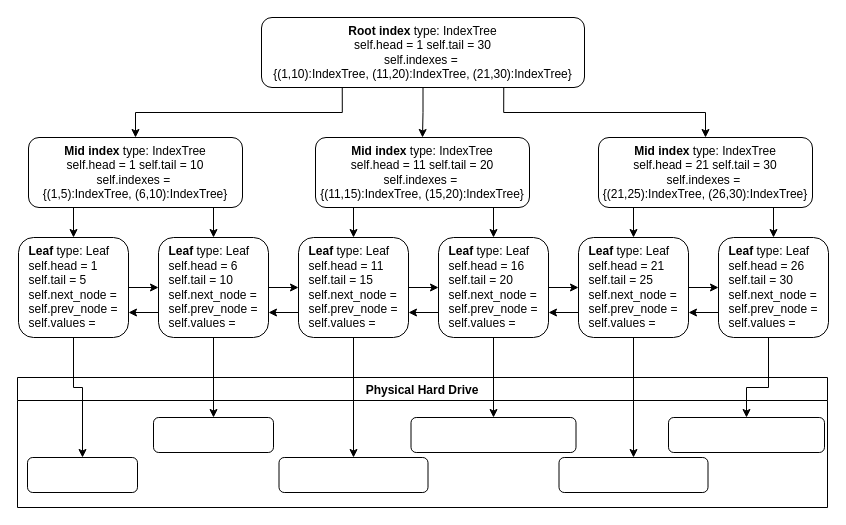
Some shapes in this 846 by 525 pixel diagram are drawn without their labels. The shapes that lost their labels are listed below. From the top down, each one's centre as x and y in pixels, then its label:
[213,434]: values = [6,7,8,9,10]
[493,434]: values = [15,16,17,18,19,20]
[746,434]: values = [26,27,28,29,30]
[82,474]: values = [1,2,3,4,5]
[353,474]: values = [11,12,13,14,15]
[633,474]: values = [21,22,23,24,25]
